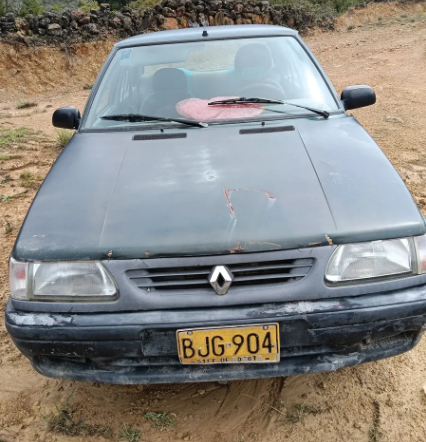placa: (173, 327, 284, 363)
